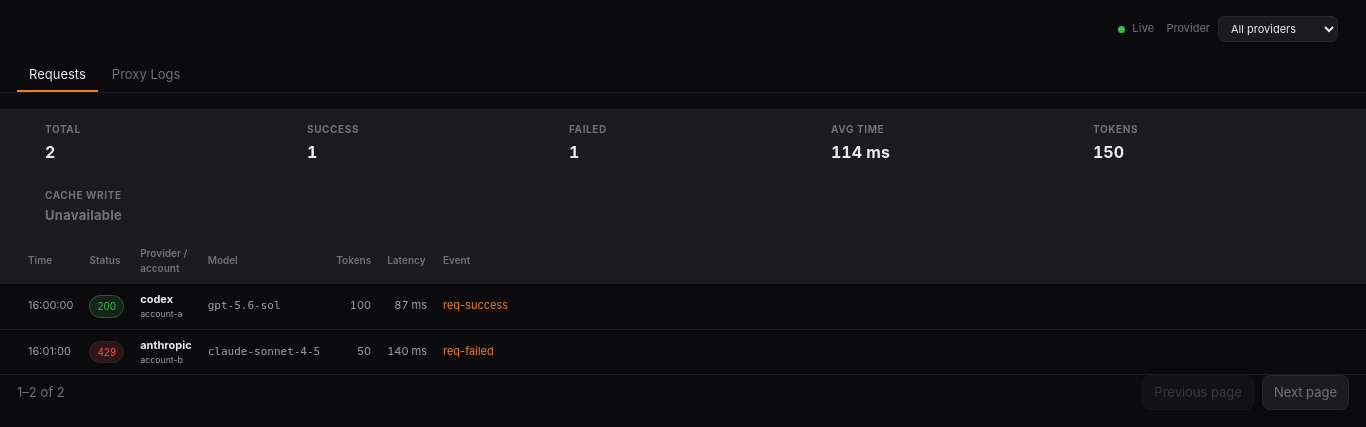
Scenario: Durable logs surface › falls back to the in-memory tail with a client-side provider filter
Expected: the button "req-success" is shown, [443,298,1338,314]
Select "anthropic" in the dropdown named "Log provider filter" at (1278, 29), box [1218,16,1338,42]
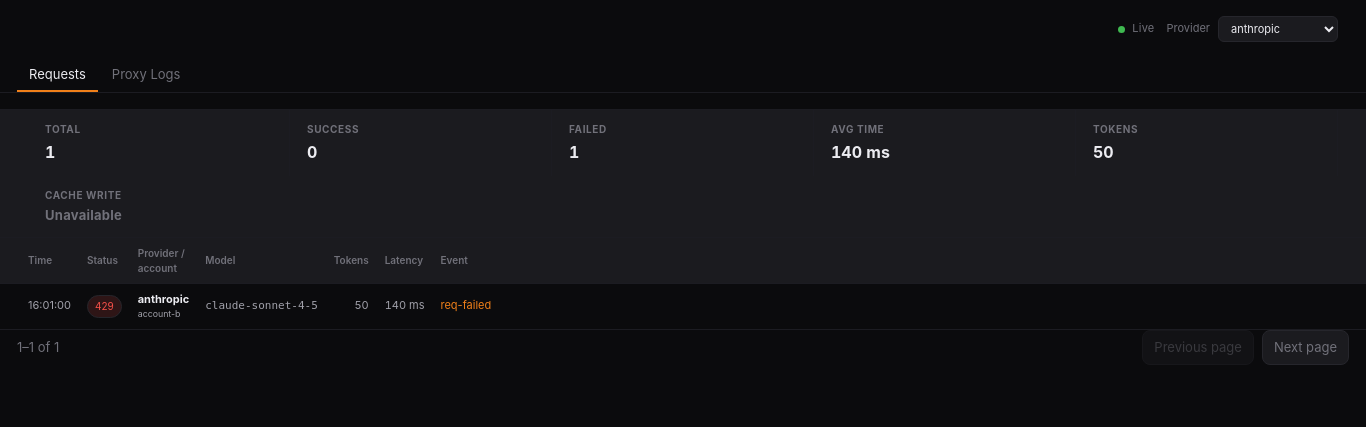
Expected: the button "req-failed" is shown, [440,298,1338,314]
Expected: the button "req-success" is gone
